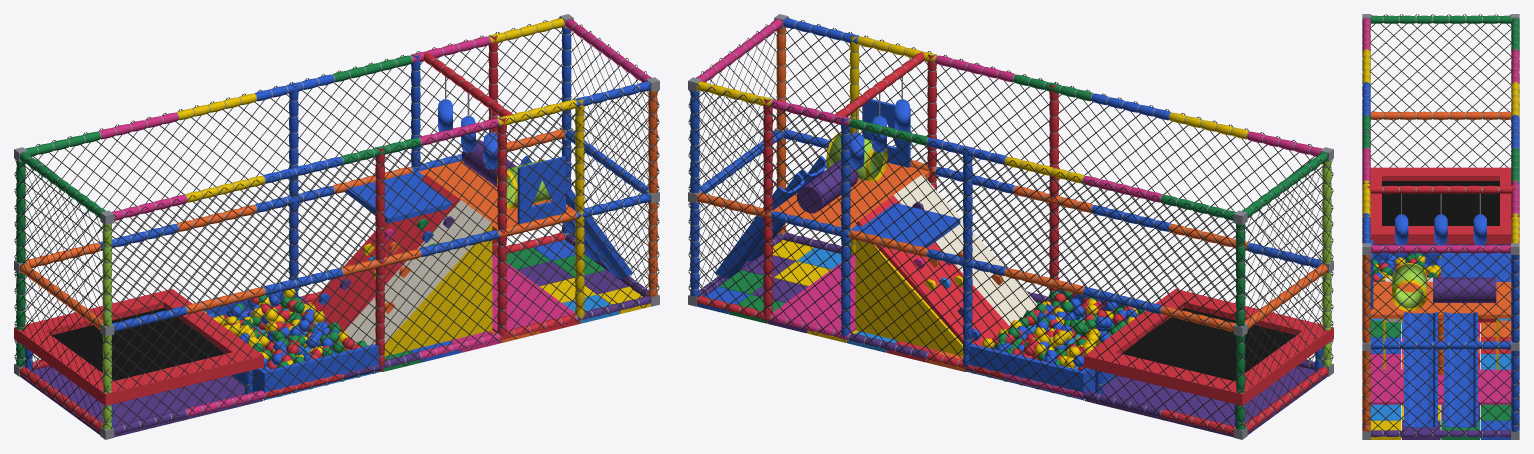
3 renders of one model, left to right at view 1: azimuth 30°, elevation 25°; view 2: azimuth 150°, elevation 25°; view 3: azimuth 270°, elevation 25°, orthographic. The views are drawn at different scales.
Visible parts, largest first — view 1: rede, vinil_tubo, plataforma, tatame, bolinhas, cama, metal, escorregador_plastico; view 2: rede, vinil_tubo, plataforma, tatame, bolinhas, cama, metal, escorregador_plastico; view 3: plataforma, vinil_tubo, rede, escorregador_plastico, tatame, cama, metal, bolinhas.
Part boxes in pixels (x1,y1,x2,y2): rede: (14, 17, 659, 435); vinil_tubo: (16, 18, 657, 434); plataforma: (14, 99, 574, 405); tatame: (20, 240, 650, 437); bolinhas: (203, 288, 367, 370); cama: (52, 308, 226, 380); metal: (14, 14, 659, 439); escorregador_plastico: (318, 155, 632, 313); rede: (688, 17, 1333, 435); vinil_tubo: (690, 18, 1331, 434); plataforma: (773, 99, 1333, 405); tatame: (697, 240, 1327, 437); bolinhas: (981, 290, 1145, 370); cama: (1121, 308, 1295, 380); metal: (688, 14, 1333, 439); escorregador_plastico: (715, 155, 1003, 340); plataforma: (1370, 167, 1511, 404); vinil_tubo: (1362, 15, 1519, 437); rede: (1362, 14, 1519, 438); escorregador_plastico: (1404, 312, 1477, 427); tatame: (1370, 244, 1511, 439); cama: (1382, 181, 1499, 225); metal: (1362, 14, 1519, 439); bolinhas: (1373, 253, 1440, 281).
Size of the model in its own units: 7 by 2.7 by 2.
8 materials, 7 textured.
